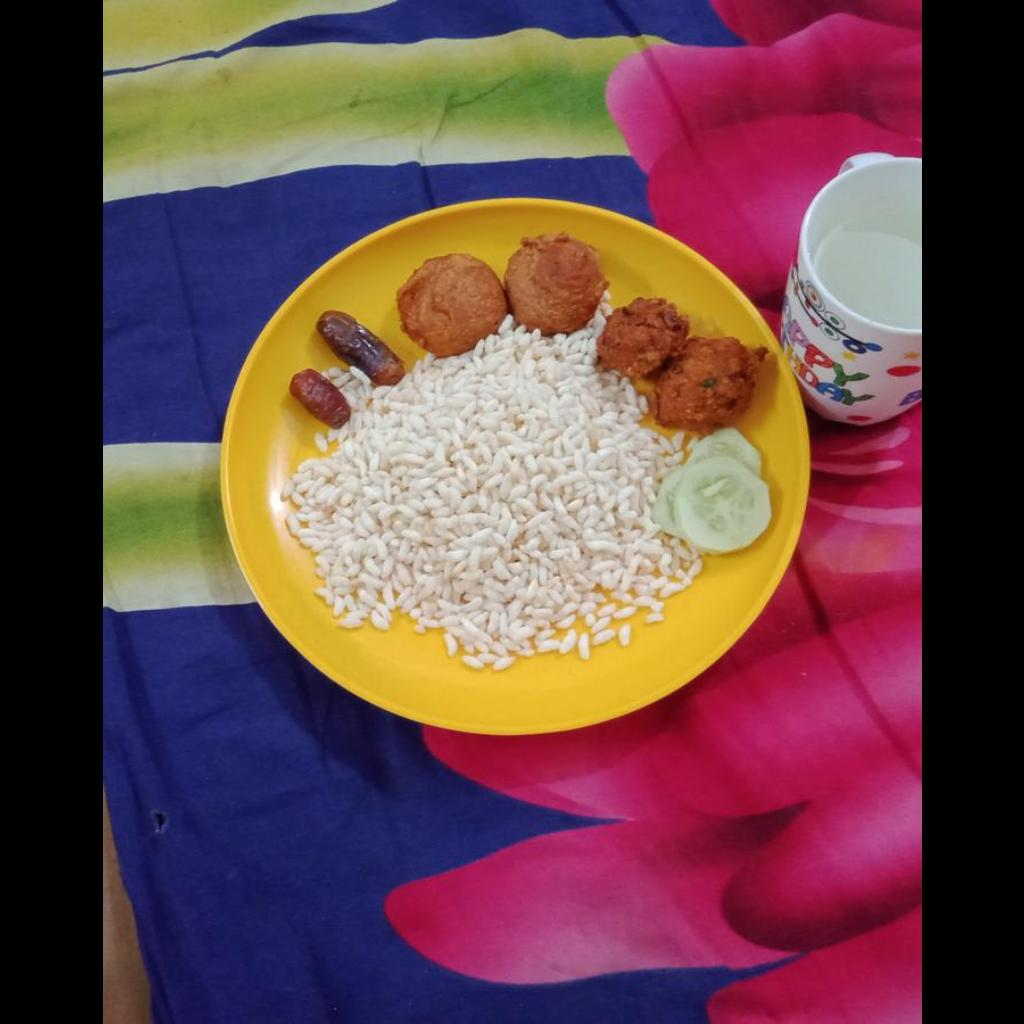chop-alu: (395, 230, 608, 350)
cucumber: (652, 429, 770, 553)
dates: (316, 312, 401, 385), (290, 369, 348, 428)
juice: (814, 226, 920, 330)
peyaju: (596, 294, 752, 426)
puffed-rice: (279, 297, 700, 669)
